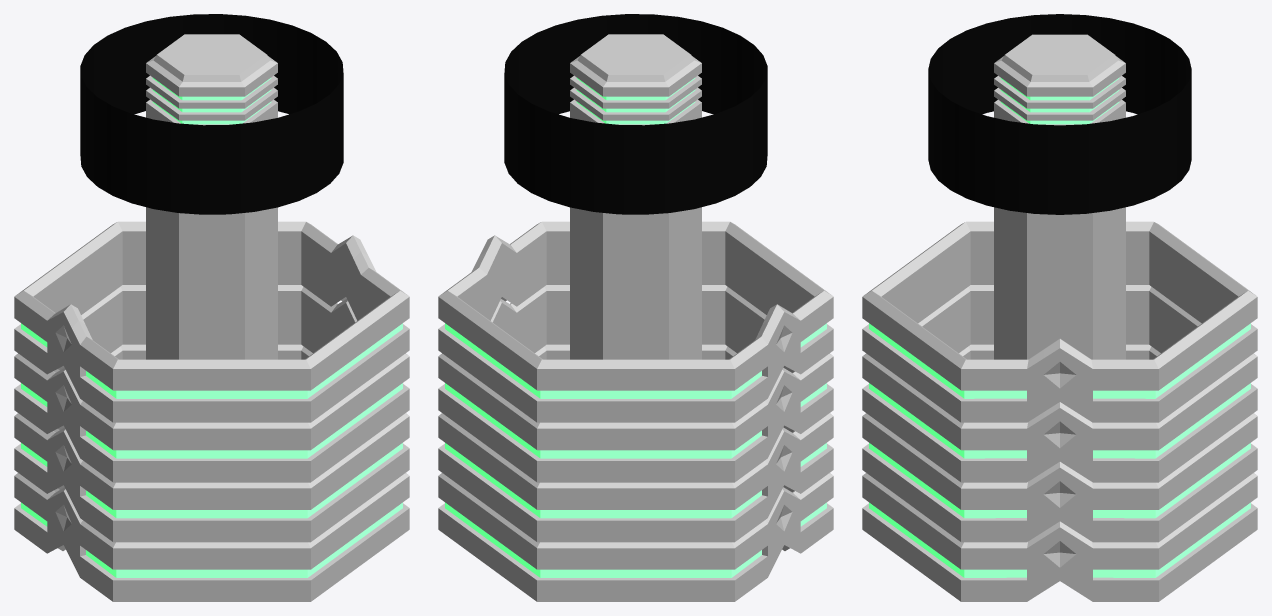
The model's file is PillarLock.fbx.
The picture shows the model from 3 angles, left to right: view 1: azimuth 30°, elevation 25°; view 2: azimuth 150°, elevation 25°; view 3: azimuth 270°, elevation 25°; orthographic projection.
Visible parts, largest first — view 1: Ring.002, Halo, Ring.001, Core, Ring, Ring.003; view 2: Ring.002, Halo, Ring.001, Core, Ring, Ring.003; view 3: Ring.002, Halo, Ring.001, Core, Ring, Ring.003.
Part boxes in pixels (x1,y1,x2,y2): Ring.002: (14,221,409,422); Halo: (80,14,343,214); Ring.001: (14,285,409,482); Core: (146,34,277,359); Ring: (14,344,409,542); Ring.003: (14,473,409,601); Ring.002: (438,221,833,422); Halo: (504,14,767,214); Ring.001: (438,285,833,482); Core: (570,34,701,359); Ring: (438,344,833,542); Ring.003: (438,473,833,601); Ring.002: (862,221,1257,422); Halo: (928,14,1191,214); Ring.001: (862,285,1257,482); Core: (994,34,1125,359); Ring: (862,344,1257,542); Ring.003: (862,473,1257,601).
Bounding box in the file's own units: 520 × 800 × 600.
